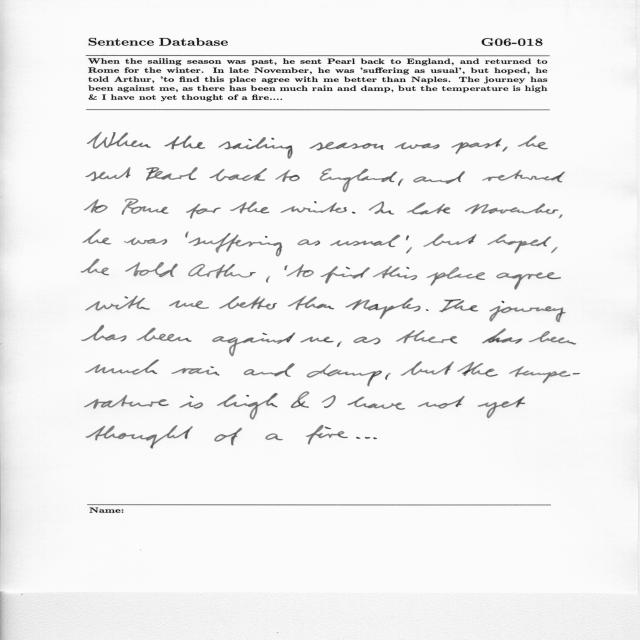word: (86, 425, 193, 449), (189, 233, 283, 257), (213, 333, 296, 357), (320, 168, 397, 192), (307, 364, 382, 387), (219, 137, 293, 159), (489, 301, 566, 322), (345, 298, 421, 319), (217, 393, 278, 419), (487, 234, 551, 253), (509, 366, 580, 383), (85, 395, 169, 409), (496, 272, 561, 290), (427, 267, 486, 286), (85, 360, 159, 375), (87, 132, 151, 149), (482, 170, 565, 183), (478, 397, 526, 419), (465, 204, 559, 215), (86, 296, 150, 311), (188, 264, 256, 278), (321, 266, 371, 284), (330, 235, 400, 247), (137, 327, 192, 342), (451, 138, 502, 154), (219, 296, 277, 310), (396, 330, 458, 343), (348, 396, 405, 410), (306, 425, 348, 444), (125, 262, 178, 277), (401, 361, 454, 376), (281, 201, 347, 213), (82, 325, 127, 342), (423, 233, 477, 247), (209, 168, 267, 181), (122, 199, 169, 215), (146, 167, 198, 181), (244, 363, 295, 377), (413, 171, 465, 184), (310, 142, 384, 151), (482, 328, 523, 344), (288, 296, 334, 310), (86, 168, 131, 182), (529, 331, 577, 344), (373, 266, 417, 280), (165, 135, 206, 150), (457, 362, 498, 377), (407, 202, 451, 215), (418, 396, 465, 408), (186, 204, 221, 219), (230, 201, 269, 214), (439, 299, 478, 312), (172, 366, 220, 376), (214, 428, 242, 445), (518, 135, 548, 150), (83, 229, 111, 245), (82, 259, 110, 275), (286, 264, 314, 277), (169, 300, 209, 309), (369, 201, 394, 215), (124, 238, 167, 246), (84, 199, 108, 213), (180, 395, 204, 409), (395, 142, 440, 149), (275, 170, 300, 182), (291, 392, 309, 408), (354, 337, 381, 345), (300, 337, 334, 343), (322, 395, 336, 408), (298, 239, 320, 246), (266, 434, 284, 441), (406, 247, 412, 254), (551, 247, 558, 253), (385, 373, 391, 380), (356, 437, 377, 439), (398, 178, 403, 186), (502, 147, 508, 152), (185, 231, 189, 238), (266, 276, 270, 283), (337, 341, 341, 347), (284, 265, 288, 270), (559, 215, 563, 219), (406, 236, 409, 241), (352, 212, 356, 214), (426, 309, 429, 311)
